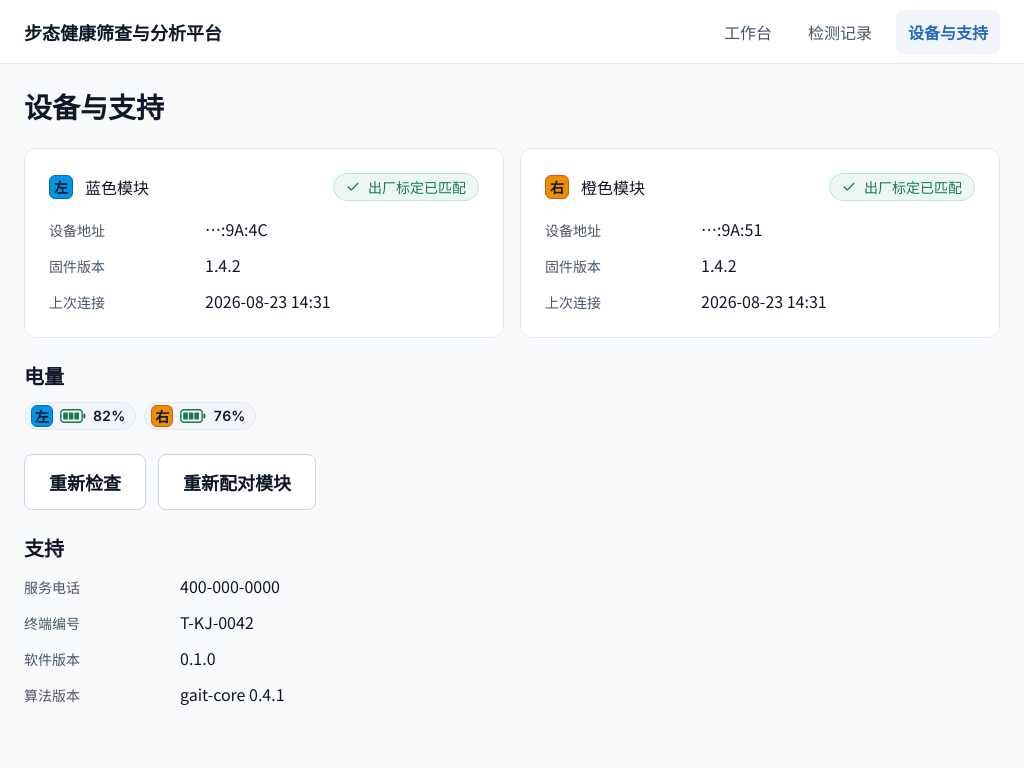
Scenario: P-10c — devices and support › says the re-pair will be recorded
Click the button "重新配对模块" at {"x": 237, "y": 482}, box [158,454,316,510]
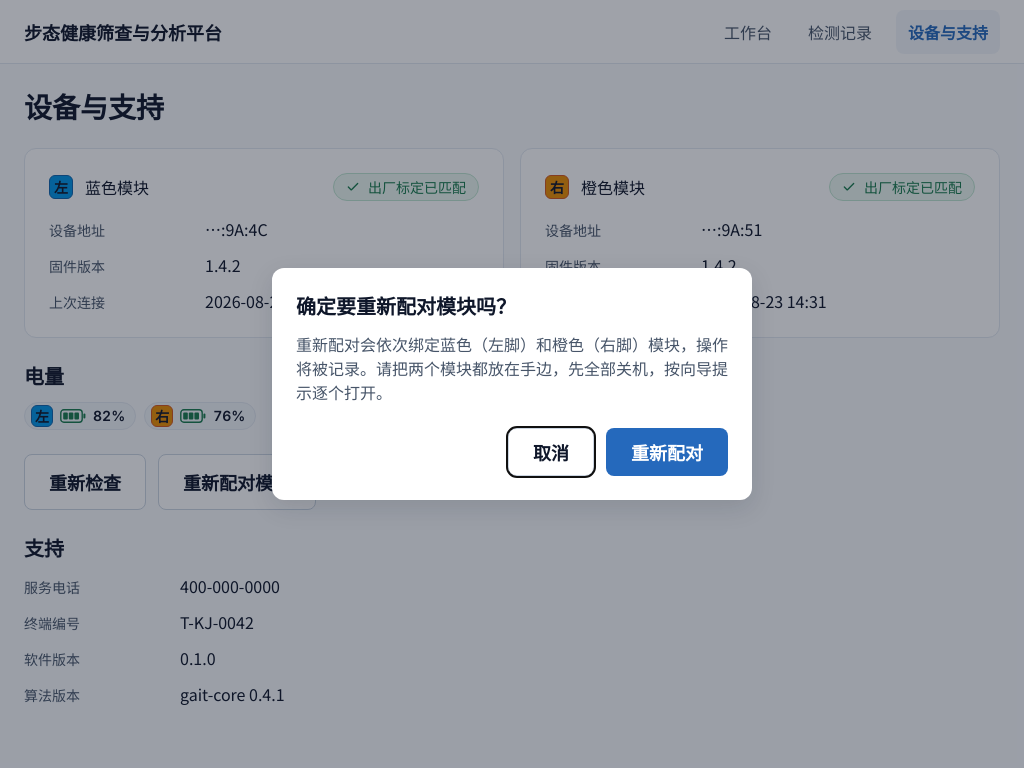
Expected: the dialog shows "操作将被记录", [296,332,728,404]
